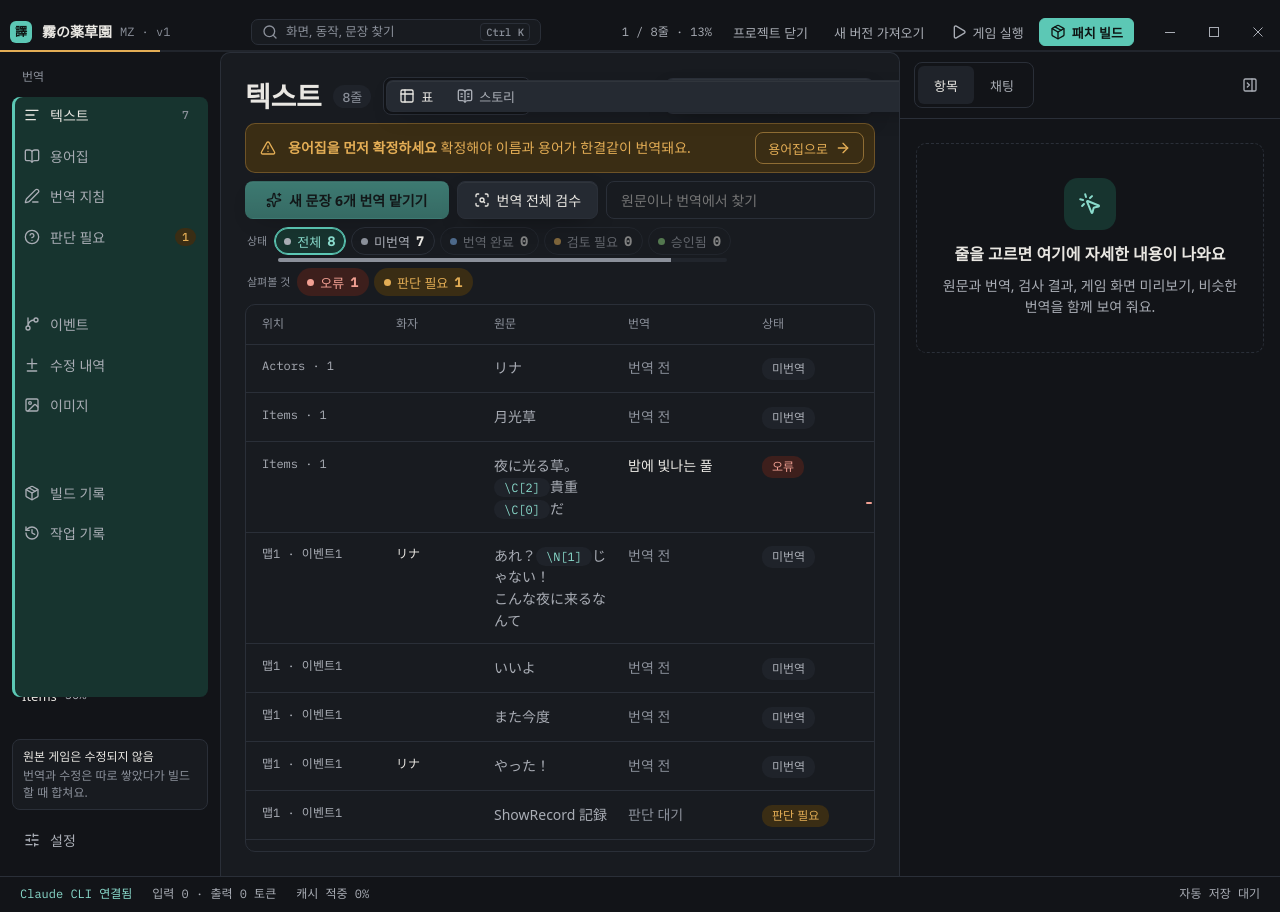
Scenario: 수정이 없으면 안내
The image size is (1280, 912).
Expected: the text "霧の薬草園" is shown, [42,21,112,43]
Click the button "수정 내역": (110, 365) [12,346,208,383]
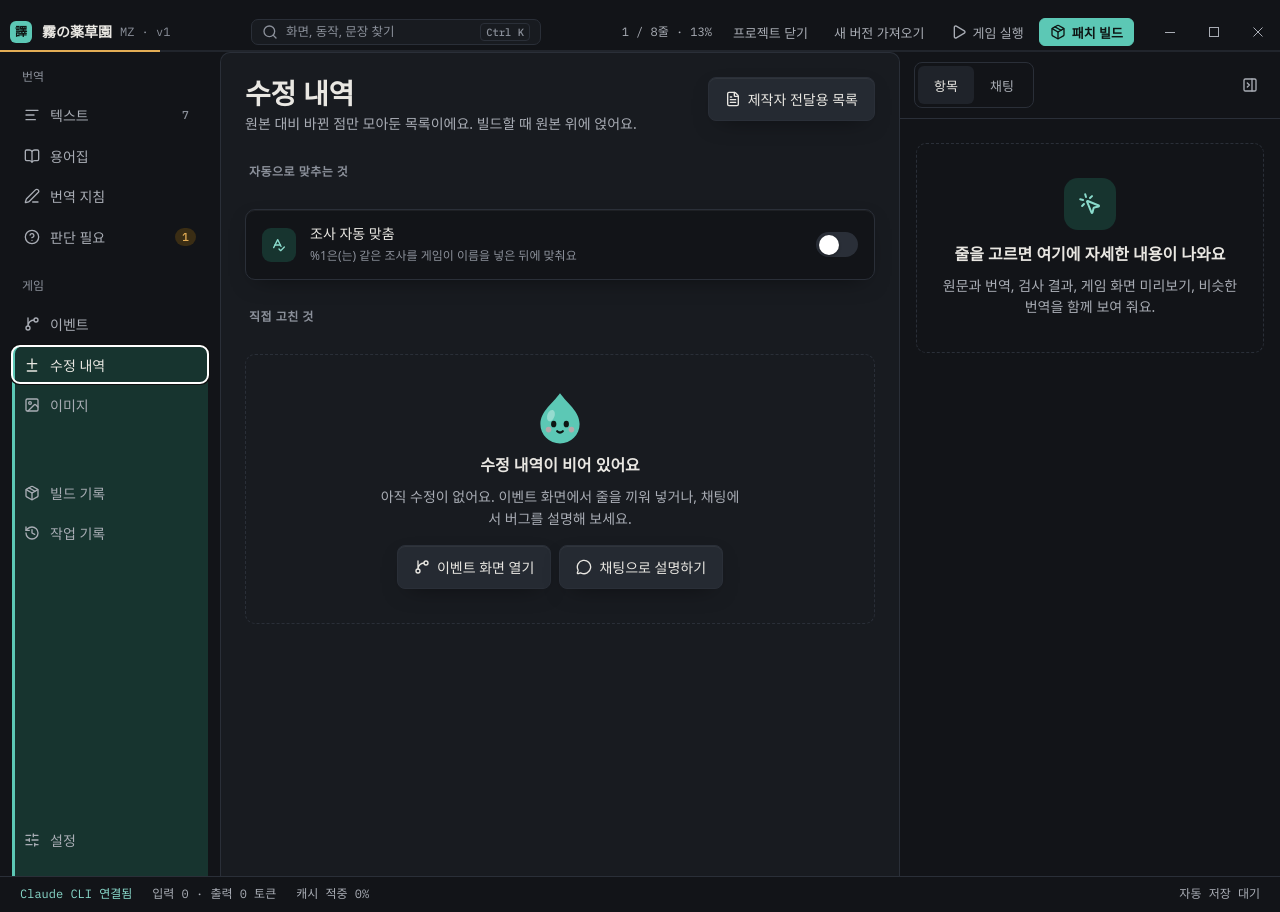
Now the heading "수정 내역" is shown, box [245,77,354,109]
Now the text "아직 수정이 없어요. 이벤트 화면에서 줄을 끼워 넣거나, 채팅에서 버그를 설명해 보세요." is shown, box [376,486,744,529]
